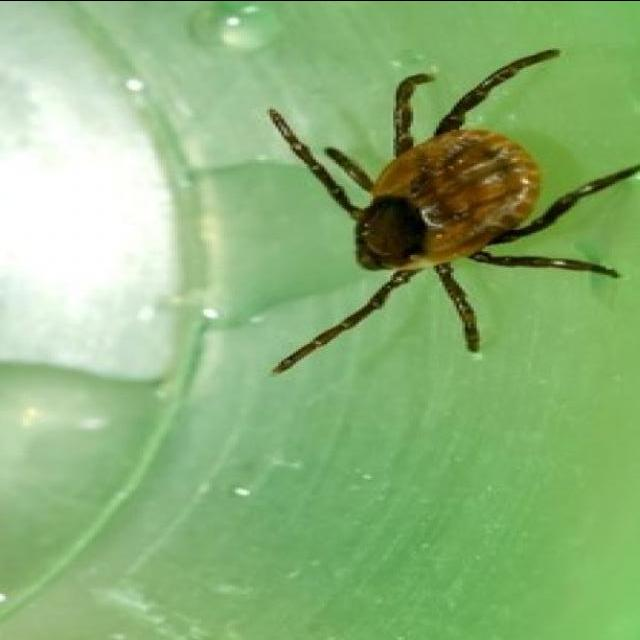Rhipicephalus Sanguineus-F: (267, 47, 640, 372)
